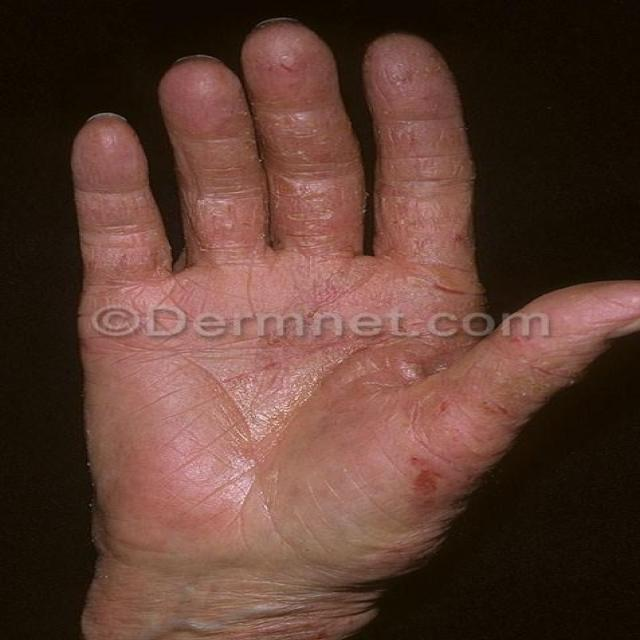Eczema: (128, 102, 562, 502)
